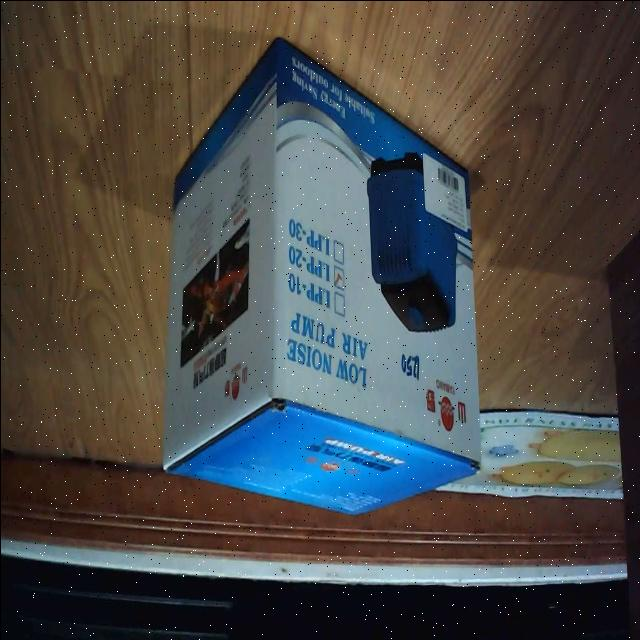YAMANO_LPP_20: (150, 31, 488, 529)
